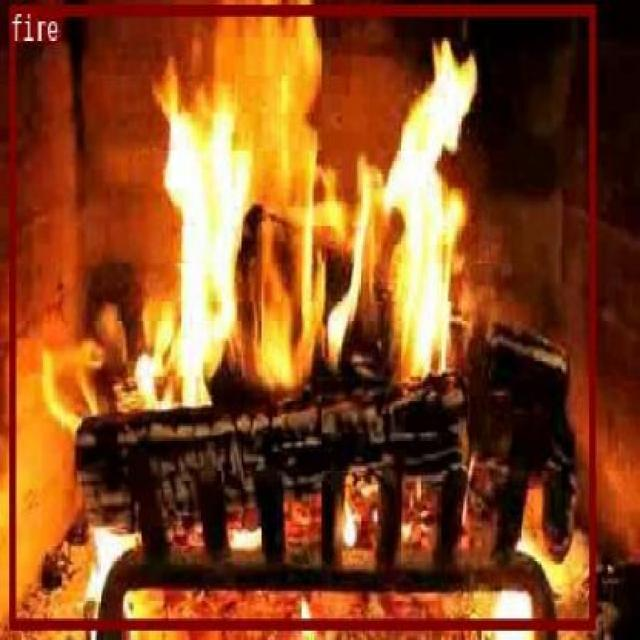Fire: (8, 3, 594, 626)
